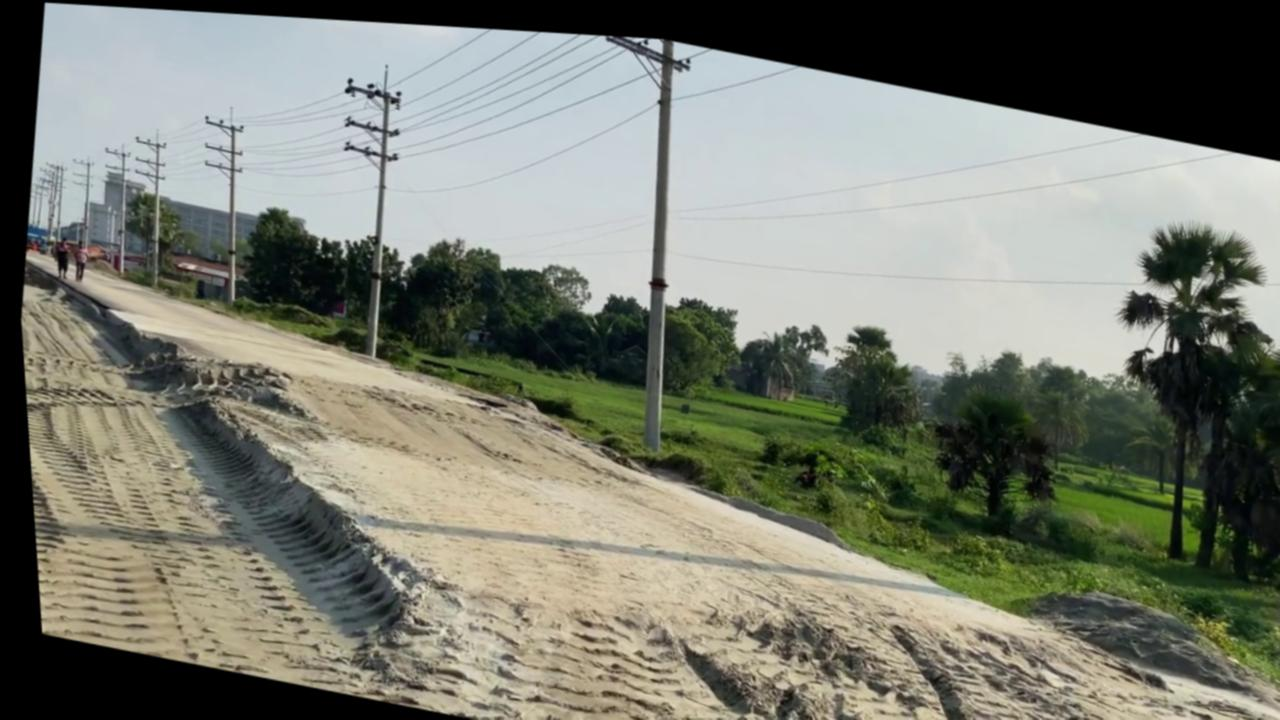Light-pole: (304, 49, 420, 355)
Pole: (603, 29, 710, 448), (1217, 143, 1280, 664)
Rickshaw: (13, 247, 1280, 720)
Traffic-sign: (1072, 188, 1280, 562), (909, 360, 1068, 527), (816, 305, 927, 438), (110, 184, 187, 283)
